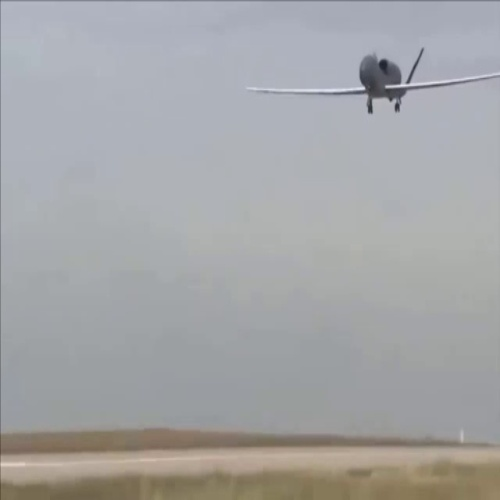uav908: (247, 43, 498, 117)
